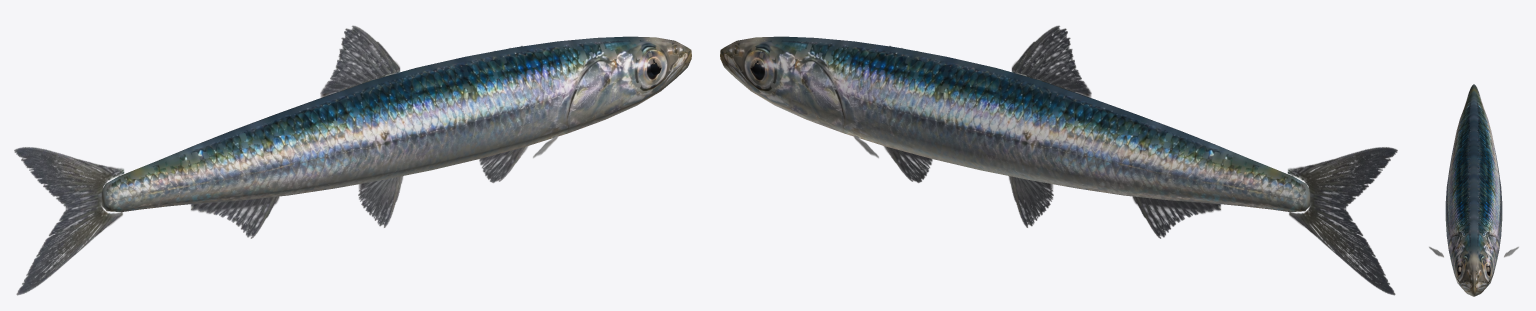
The model's file is katakuchi_lo.glb.
3 renders of one model, left to right at view 1: azimuth 30°, elevation 25°; view 2: azimuth 150°, elevation 25°; view 3: azimuth 270°, elevation 25°, orthographic. The views are drawn at different scales.
Parts seen in each view (by area): view 1: katakuchi; view 2: katakuchi; view 3: katakuchi.
Boxes of the visible parts, left/top/right/bottom form: katakuchi: left=14, top=25, right=691, bottom=295; katakuchi: left=720, top=25, right=1397, bottom=295; katakuchi: left=1429, top=84, right=1518, bottom=296.
Bounding box in the file's own units: 0.1302 × 0.0386 × 0.0232.
Materials: 1 (1 with a texture image).
